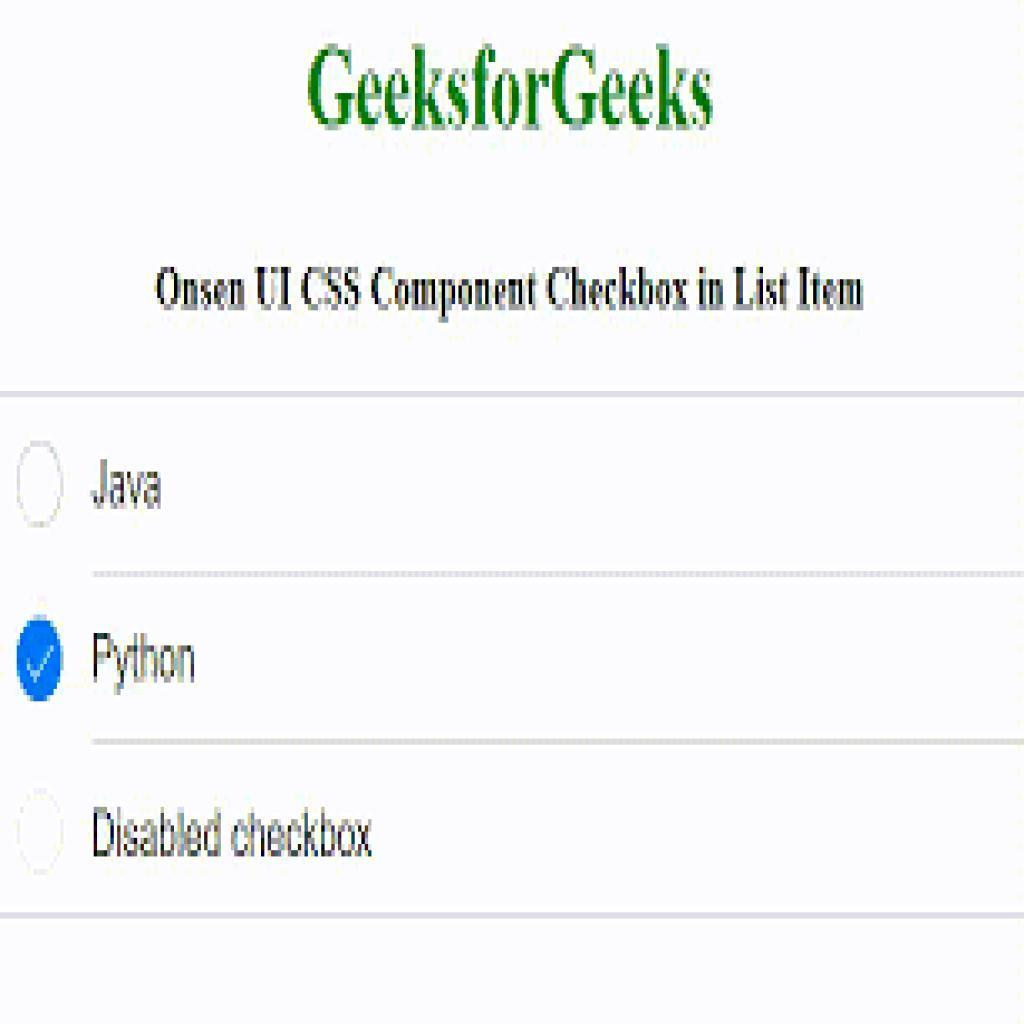label: (88, 798, 385, 866), (90, 627, 207, 704), (85, 457, 170, 513)
radio: (17, 789, 66, 878), (16, 443, 65, 528), (17, 616, 64, 704)
